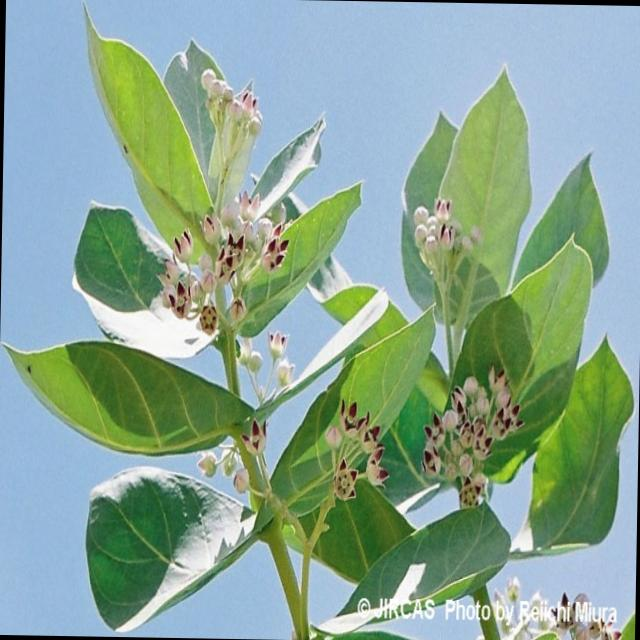Poisonous-Calatropis: (0, 21, 362, 640), (394, 64, 640, 555)
